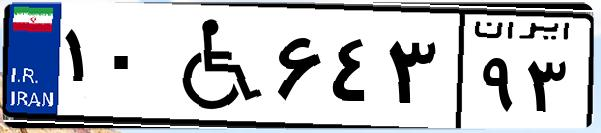0: (110, 28, 158, 98)
1: (57, 26, 110, 100)
3: (385, 28, 445, 110), (525, 38, 570, 115)
4: (330, 28, 385, 110)
6: (270, 28, 330, 110)
9: (475, 38, 525, 113)
ژ (معلولین و جانبازان): (158, 12, 270, 120)
